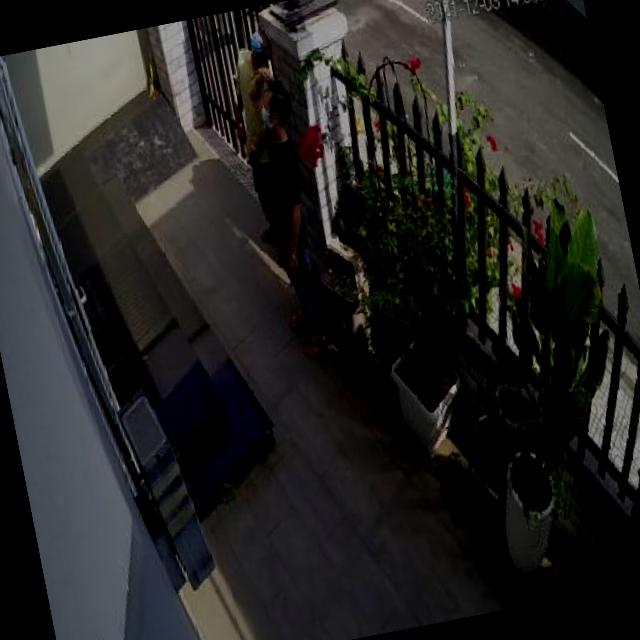Person: (242, 64, 342, 370), (218, 22, 316, 276)
